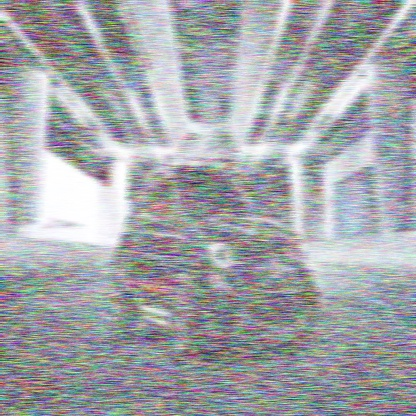Vehicle: (111, 152, 322, 364)
